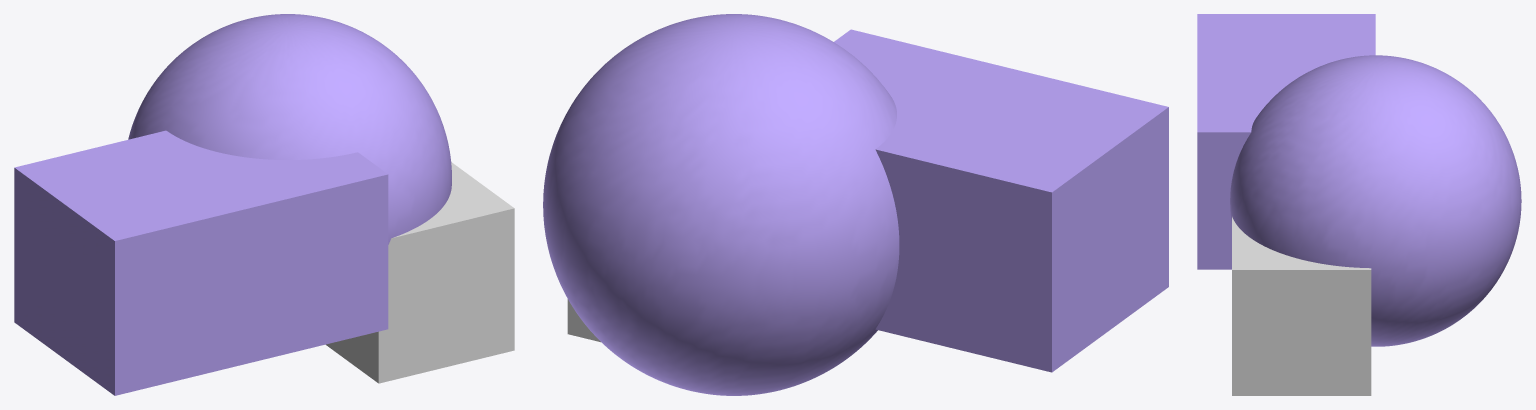
The picture shows the model from 3 angles, left to right: view 1: azimuth 30°, elevation 25°; view 2: azimuth 150°, elevation 25°; view 3: azimuth 270°, elevation 25°; orthographic projection. The views are drawn at different scales.
Visible parts, largest first — view 1: Mesh_1, Mesh_0, Cube; view 2: Mesh_0, Mesh_1, Cube; view 3: Mesh_0, Cube, Mesh_1.
Part boxes in pixels (x1,y1,x2,y2): Mesh_1: (14,130,388,395); Mesh_0: (128,14,451,244); Cube: (326,162,514,383); Mesh_0: (543,14,899,395); Mesh_1: (834,29,1168,372); Cube: (567,299,600,342); Mesh_0: (1230,55,1521,346); Cube: (1232,217,1371,395); Mesh_1: (1197,14,1375,269).
Bounding box in the file's own units: 6.17 × 4.19 × 4.66.
